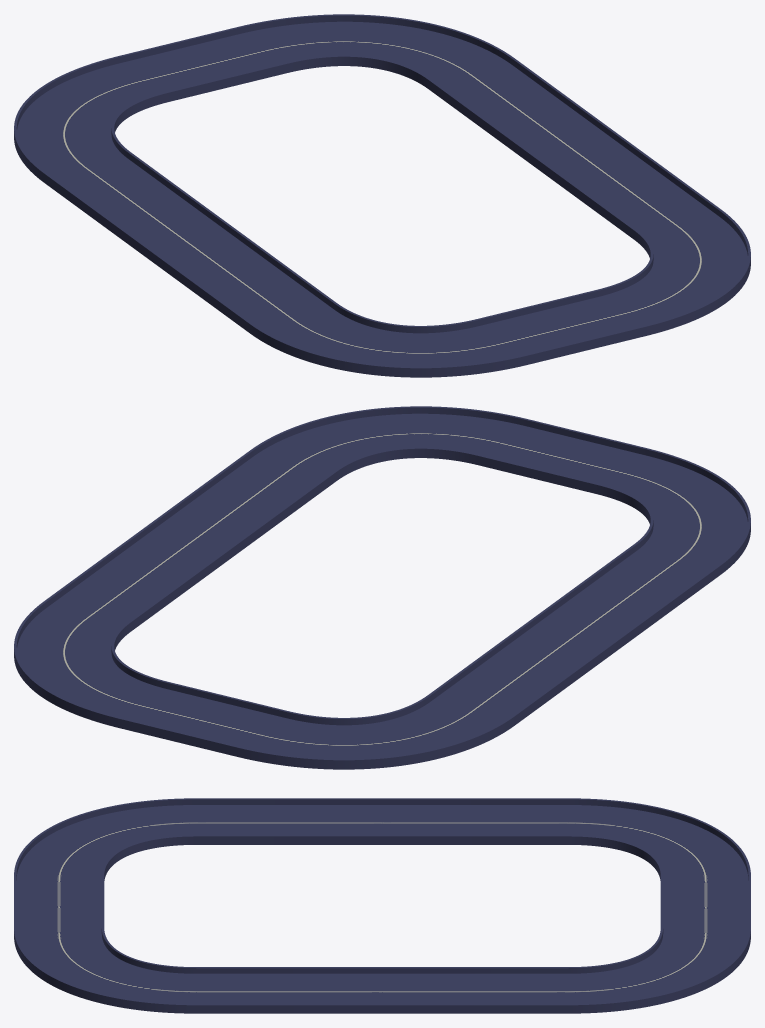
Rendered from saidao.FBX.
3 renders of one model, top to bottom at view 1: azimuth 30°, elevation 25°; view 2: azimuth 150°, elevation 25°; view 3: azimuth 270°, elevation 25°, orthographic. The views are drawn at different scales.
Visible parts, largest first — view 1: saidao; view 2: saidao; view 3: saidao.
Part boxes in pixels (<box>): saidao: <box>14,14,750,377</box>; saidao: <box>14,406,750,769</box>; saidao: <box>14,798,750,1013</box>.
Bounding box in the file's own units: 7920 × 150 × 11920.
